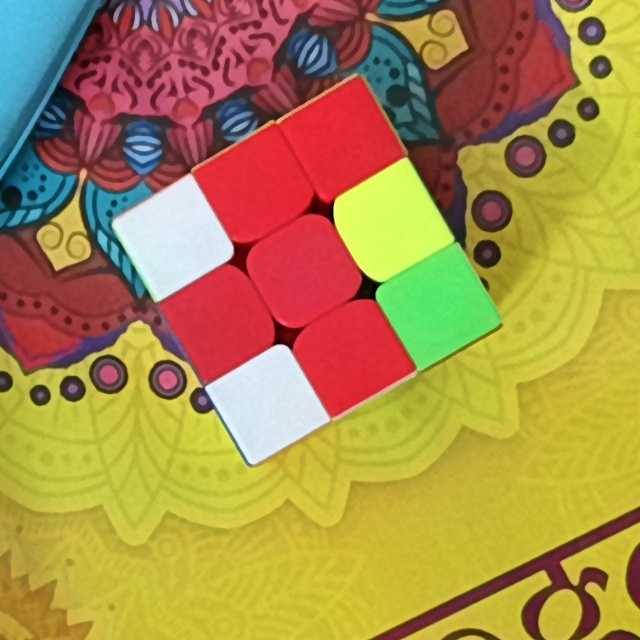tile: (267, 238, 335, 305), (404, 274, 470, 340), (140, 207, 206, 272), (232, 374, 298, 438), (357, 192, 421, 257), (186, 291, 253, 353), (221, 157, 285, 220), (308, 108, 371, 172), (320, 321, 383, 385)
